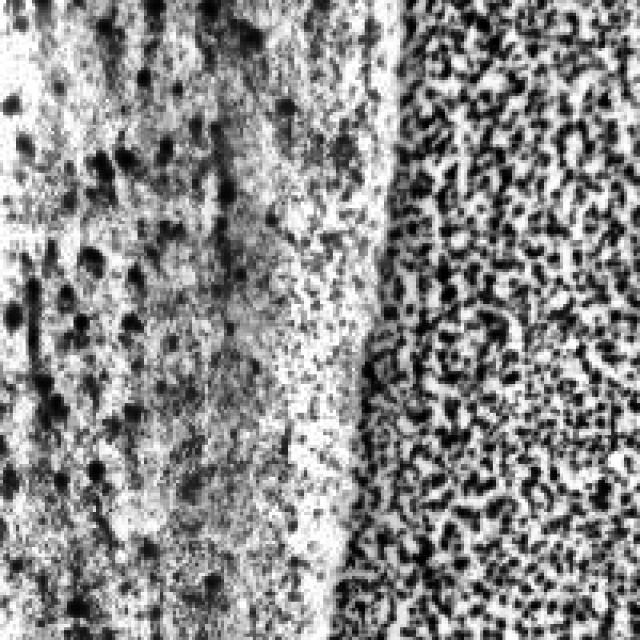Rolled_in_Scale: (336, 0, 637, 627), (3, 0, 230, 614)
